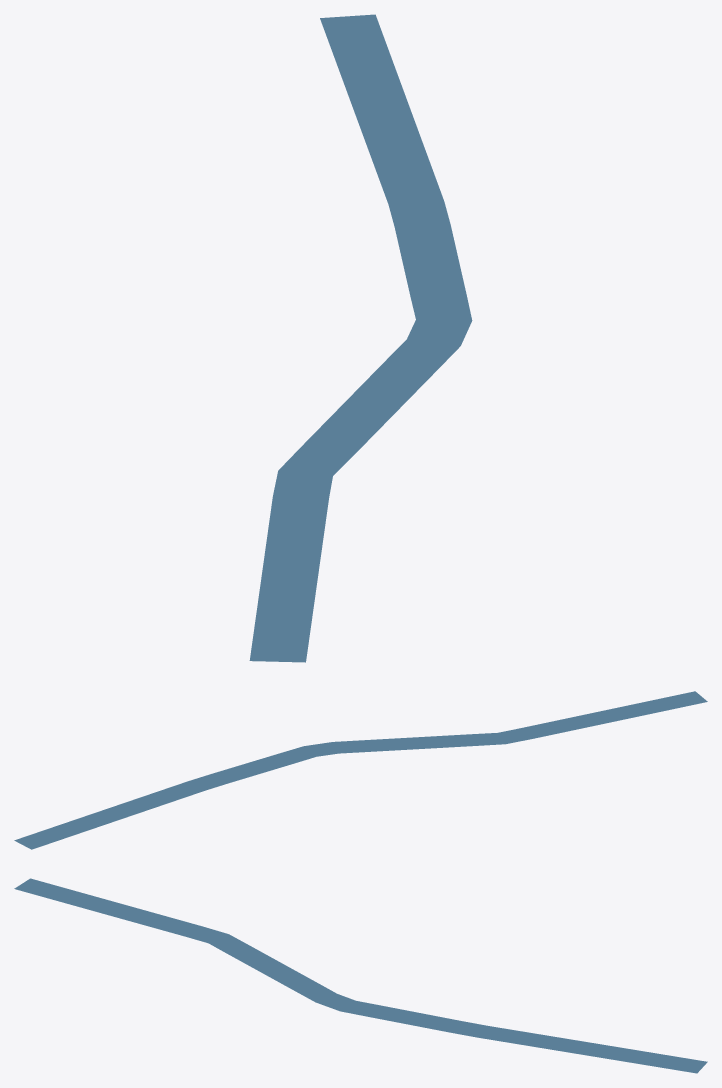
The model's file is c_1649_17834_water.glb.
3 views of the same model, one above another, from view 1: azimuth 30°, elevation 25°; view 2: azimuth 150°, elevation 25°; view 3: azimuth 270°, elevation 25° (orthographic). The views are drawn at different scales.
Parts seen in each view (by area): view 1: geometry_0; view 2: geometry_0; view 3: geometry_0.
Part boxes in pixels (x1,y1,x2,y2): geometry_0: [249, 14, 472, 662]; geometry_0: [14, 691, 707, 849]; geometry_0: [14, 878, 707, 1073].
Bounding box in the file's own units: 92.99 × 0 × 140.
